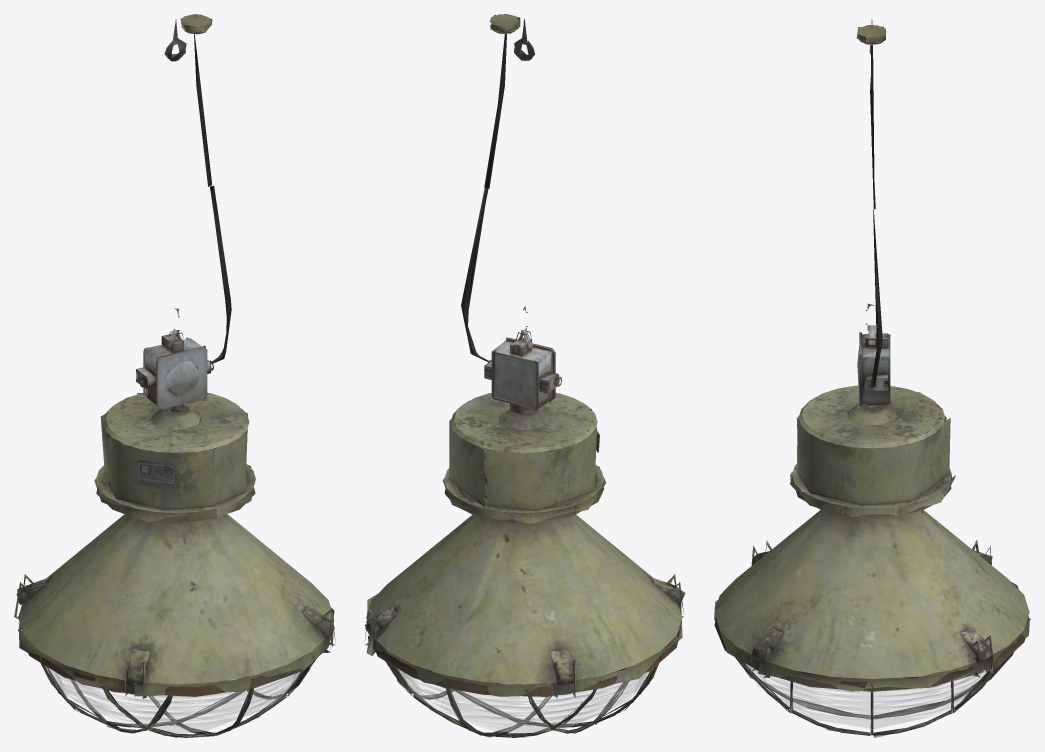
The model's file is ph_hanging_industrial_lamp.glb.
3 renders of one model, left to right at view 1: azimuth 30°, elevation 25°; view 2: azimuth 150°, elevation 25°; view 3: azimuth 270°, elevation 25°, orthographic.
Visible parts, largest first — view 1: hanging_industrial_lamp; view 2: hanging_industrial_lamp; view 3: hanging_industrial_lamp.
Part boxes in pixels (x1,y1,x2,y2): hanging_industrial_lamp: [14, 14, 335, 737]; hanging_industrial_lamp: [364, 14, 685, 737]; hanging_industrial_lamp: [714, 19, 1030, 737].
Size of the model in its own units: 0.5538 by 1.36 by 0.5522.
2 materials, 1 textured.
